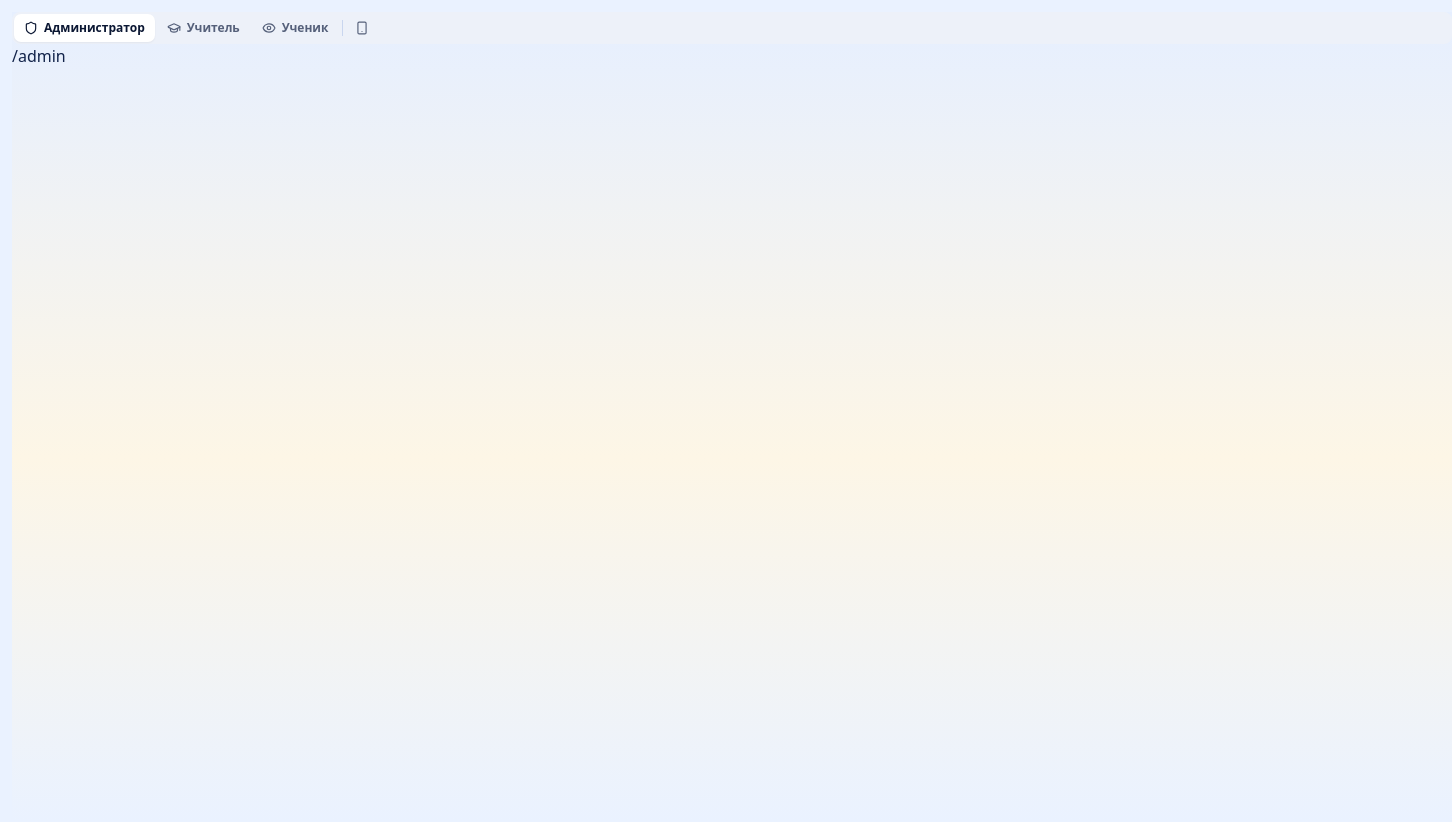
Переключатель с режимом «Ученик» (§178) › «Ученик» включает предпросмотр: полоса появляется, с дашборда уводит на /dashboard
Click the button with test id "staff-mode-student": point(295, 28) [252,14,338,42]
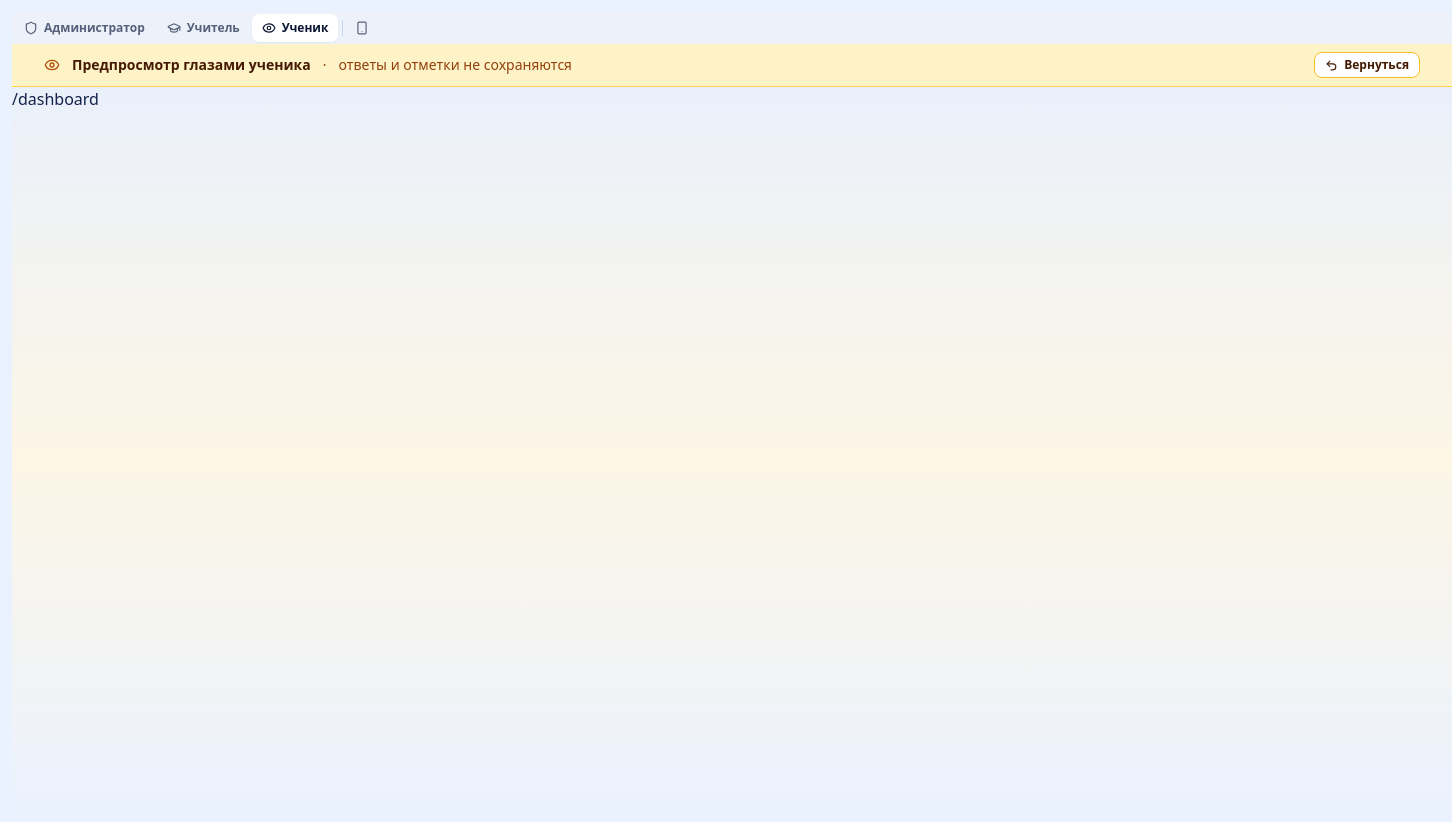
Check: the message with test id "student-preview-banner" shows "Предпросмотр глазами ученика", box [72,55,311,74]
Check: the message with test id "student-preview-banner" shows "ответы и отметки не сохраняются", box [338,55,572,74]
Check: the text with test id "where" reads "/dashboard", box [12,88,99,110]
